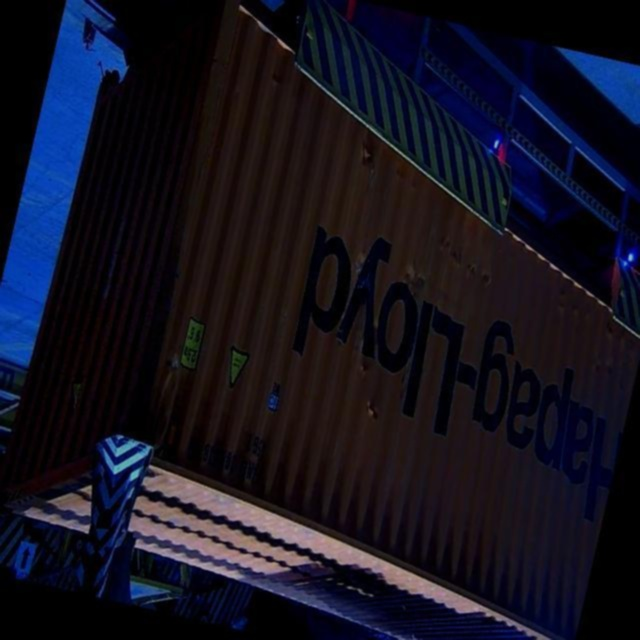Dent: (340, 252, 388, 325), (347, 136, 389, 196), (359, 391, 395, 436)
